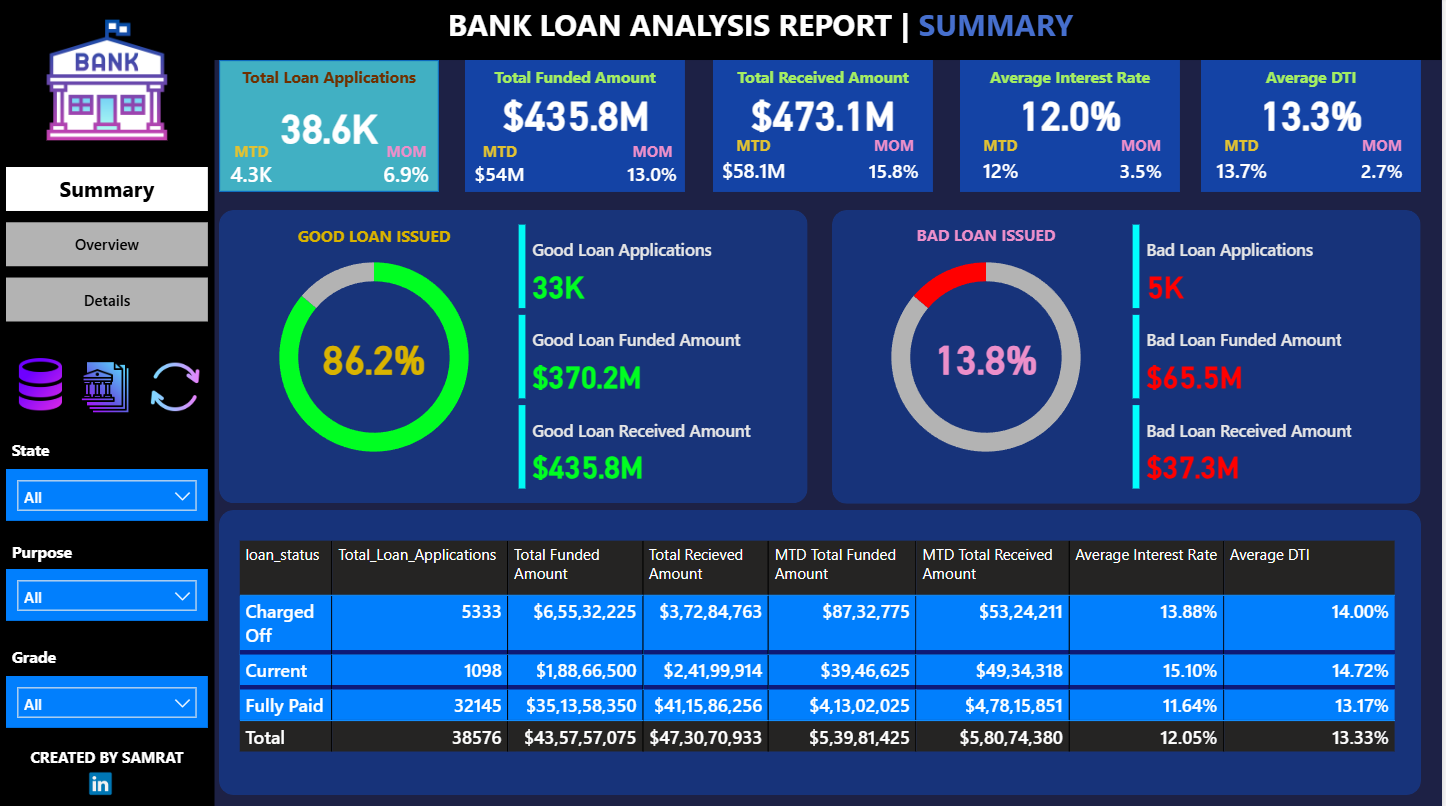

The dashboard page shown, as its layout file describes it:
{"tool":"powerbi","page":{"name":"Summary","canvas":[1280,720],"ordinal":0},"visuals":[{"type":"shape","box":[0,0,1280,55],"z":0},{"type":"shape","box":[196,55,195.1,117],"z":0,"group":"g3"},{"type":"shape","box":[414.4,55,195.1,117],"z":0,"group":"g2"},{"type":"shape","box":[633.6,55,195.1,117],"z":0,"group":"g4"},{"type":"shape","box":[852.6,55,195.1,117],"z":0,"group":"g5"},{"type":"shape","box":[1066.3,55,195.1,117],"z":0,"group":"g6"},{"type":"shape","box":[196,188,522,260],"z":1000},{"type":"shape","box":[0,55,192,665],"z":2000},{"type":"textbox","box":[272.2,0,807.8,55],"z":3000},{"type":"group","id":"g1","title":"Group 1","box":[196,55,195.1,117],"z":4000},{"type":"card","fields":{"Values":["Date Table.Total Funded Amount"]},"box":[414.7,79,195.1,45.2],"z":4000,"group":"g2"},{"type":"card","fields":{"Values":["Date Table.Total Recieved Amount"]},"box":[633.9,79,195.1,45.2],"z":4000,"group":"g4"},{"type":"card","fields":{"Values":["Date Table.Average Interest Rate"]},"box":[852.9,79,195.1,45.2],"z":4000,"group":"g5"},{"type":"card","fields":{"Values":["Date Table.Average DTI"]},"box":[1066.6,79,195.1,45.2],"z":4000,"group":"g6"},{"type":"card","fields":{"Values":["bank_loan_data.Total_Loan_Applications"]},"box":[196,90.5,195.1,45.2],"z":4000,"group":"g3"},{"type":"textbox","box":[196,55,195.1,35.5],"z":5000,"group":"g3"},{"type":"group","id":"g2","title":"Group 2","box":[414.1,55,195.7,117.1],"z":5000},{"type":"textbox","box":[414.4,55,195.1,35.5],"z":5000,"group":"g2"},{"type":"textbox","box":[633.6,55,195.1,35.5],"z":5000,"group":"g4"},{"type":"textbox","box":[852.6,55,195.1,35.5],"z":5000,"group":"g5"},{"type":"textbox","box":[1066.3,55,195.1,35.5],"z":5000,"group":"g6"},{"type":"card","title":"MTD","fields":{"Values":["bank_loan_data.MTD Total Received Amount"]},"box":[633.1,121.3,73.6,50.5],"z":6000,"group":"g4"},{"type":"card","title":"MTD","fields":{"Values":["bank_loan_data.MTD Average Interest Rate"]},"box":[852.1,121.3,73.6,50.5],"z":6000,"group":"g5"},{"type":"card","title":"MTD","fields":{"Values":["bank_loan_data.MTD Average DTI"]},"box":[1065.8,121.3,73.6,50.5],"z":6000,"group":"g6"},{"type":"card","title":"MTD","fields":{"Values":["bank_loan_data.MTD Total Loan Applications"]},"box":[196,126.8,57.6,45.2],"z":6000,"group":"g3"},{"type":"card","title":"MTD","fields":{"Values":["bank_loan_data.MTD Total Funded Amount"]},"box":[414.1,126.8,62.1,45.2],"z":6000,"group":"g2"},{"type":"textbox","box":[7.1,385.7,54.1,31.9],"z":6000},{"type":"card","title":"MOM","fields":{"Values":["Date Table.MOM Total Received Amount"]},"box":[759.9,121.3,69.2,50.5],"z":7000,"group":"g4"},{"type":"card","title":"MOM","fields":{"Values":["Date Table.MOM Average Interest Rate"]},"box":[978.9,121.3,69.2,50.5],"z":7000,"group":"g5"},{"type":"card","title":"MOM","fields":{"Values":["Date Table.MOM Average DTI"]},"box":[1192.6,121.3,69.2,50.5],"z":7000,"group":"g6"},{"type":"card","title":"MOM","fields":{"Values":["Date Table.MOM Loan Application"]},"box":[333.4,126.8,57.6,45.2],"z":7000,"group":"g3"},{"type":"card","title":"MOM","fields":{"Values":["Date Table.MOM Funded Amount"]},"box":[551.8,126.8,57.6,45.2],"z":7000,"group":"g2"},{"type":"card","fields":{"Values":["Date Table.Good Loan %"]},"box":[280.2,296.2,105.5,44.3],"z":7000},{"type":"group","id":"g3","title":"Group 2","box":[196,55,195.1,117],"z":7002,"group":"g1"},{"type":"group","id":"g4","title":"Group 2","box":[633.1,55,196,117],"z":8000},{"type":"textbox","box":[235.9,196,195.1,35.5],"z":9000},{"type":"group","id":"g5","title":"Group 2","box":[852.1,55,196,117],"z":10000},{"type":"group","id":"g6","title":"Group 2","box":[1065.8,55,196,117],"z":11000},{"type":"shape","box":[739.5,188,522.3,260.7],"z":12000},{"type":"donutChart","fields":{"Category":["bank_loan_data.Good vs Bad Loan"],"Y":["bank_loan_data.Total_Loan_Applications"]},"box":[208.4,208.4,250,219.9],"z":13000},{"type":"cardVisual","fields":{"Data":["Date Table.Good Loan Applications","Date Table.Good Loan Funded Amount","Date Table.Good Loan Received Amount"]},"box":[456.7,196,266.9,244.7],"z":14000},{"type":"donutChart","fields":{"Category":["bank_loan_data.Good vs Bad Loan"],"Y":["bank_loan_data.Total_Loan_Applications"]},"box":[751,208.4,250,219.9],"z":15000},{"type":"cardVisual","fields":{"Data":["Date Table.Bad Loan Applications","Date Table.Bad Loan Funded Amount","Date Table.Bad Loan Received Amount"]},"box":[1001.1,196,266.9,244.7],"z":16000},{"type":"card","fields":{"Values":["Date Table.Bad Loan %"]},"box":[822.9,296.2,105.5,44.3],"z":17000},{"type":"textbox","box":[778.5,195.1,195.1,35.5],"z":18000},{"type":"shape","box":[196,454,1065.8,252.7],"z":19000},{"type":"tableEx","fields":{"Values":["bank_loan_data.loan_status","bank_loan_data.Total_Loan_Applications","Date Table.Total Funded Amount","Date Table.Total Recieved Amount","bank_loan_data.MTD Total Funded Amount","bank_loan_data.MTD Total Received Amount","Date Table.Average Interest Rate","Date Table.Average DTI"]},"box":[208.4,476.2,1037.4,220.8],"z":20000},{"type":"slicer","fields":{"Values":["bank_loan_data.address_state"]},"box":[7.1,417.6,179.1,46.1],"z":21000},{"type":"slicer","fields":{"Values":["bank_loan_data.purpose"]},"box":[7.1,506.3,179.1,46.1],"z":22000},{"type":"slicer","fields":{"Values":["bank_loan_data.grade","bank_loan_data.sub_grade"]},"box":[7.1,601.2,179.1,46.1],"z":23000},{"type":"textbox","box":[7.1,476.2,88.7,30.1],"z":24000},{"type":"textbox","box":[7.1,569.3,89.6,31.9],"z":25000},{"type":"image","box":[7.1,14.2,179.1,117],"z":26000},{"type":"pageNavigator","box":[7.1,149.9,179.1,138.3],"z":27000},{"type":"image","box":[128.6,318.3,57.6,53.2],"z":28000},{"type":"image","box":[7.1,313,61.2,58.5],"z":29000},{"type":"image","box":[64.7,313.9,59.4,61.2],"z":30000},{"type":"textbox","box":[7.1,659.7,179.1,28.4],"z":31000},{"type":"image","box":[75.4,680.1,31,32.8],"z":32000}]}

Visuals, with their boxes in screenshot pixels (x1, y1, x2, y2), scaled from the page's 1280x720 canvas onto the 1446x806 screenshot:
shape: [0, 0, 1445, 62]
shape: [221, 62, 442, 193]
shape: [468, 62, 689, 193]
shape: [716, 62, 936, 193]
shape: [963, 62, 1184, 193]
shape: [1205, 62, 1425, 193]
shape: [221, 210, 811, 502]
shape: [0, 62, 217, 805]
textbox: [308, 0, 1220, 62]
"Group 1" group: [221, 62, 442, 193]
card - Date Table.Total Funded Amount: [468, 88, 689, 139]
card - Date Table.Total Recieved Amount: [716, 88, 937, 139]
card - Date Table.Average Interest Rate: [964, 88, 1184, 139]
card - Date Table.Average DTI: [1205, 88, 1425, 139]
card - bank_loan_data.Total_Loan_Applications: [221, 101, 442, 152]
textbox: [221, 62, 442, 101]
"Group 2" group: [468, 62, 689, 193]
textbox: [468, 62, 689, 101]
textbox: [716, 62, 936, 101]
textbox: [963, 62, 1184, 101]
textbox: [1205, 62, 1425, 101]
"MTD" card: [715, 136, 798, 192]
"MTD" card: [963, 136, 1046, 192]
"MTD" card: [1204, 136, 1287, 192]
"MTD" card: [221, 142, 286, 193]
"MTD" card: [468, 142, 538, 193]
textbox: [8, 432, 69, 467]
"MOM" card: [858, 136, 937, 192]
"MOM" card: [1106, 136, 1184, 192]
"MOM" card: [1347, 136, 1425, 192]
"MOM" card: [377, 142, 442, 193]
"MOM" card: [623, 142, 688, 193]
card - Date Table.Good Loan %: [317, 332, 436, 381]
"Group 2" group: [221, 62, 442, 193]
"Group 2" group: [715, 62, 937, 193]
textbox: [266, 219, 487, 259]
"Group 2" group: [963, 62, 1184, 193]
"Group 2" group: [1204, 62, 1425, 193]
shape: [835, 210, 1425, 502]
donutChart - bank_loan_data.Good vs Bad Loan x bank_loan_data.Total_Loan_Applications: [235, 233, 518, 479]
cardVisual - Date Table.Good Loan Applications x Date Table.Good Loan Funded Amount: [516, 219, 817, 493]
donutChart - bank_loan_data.Good vs Bad Loan x bank_loan_data.Total_Loan_Applications: [848, 233, 1131, 479]
cardVisual - Date Table.Bad Loan Applications x Date Table.Bad Loan Funded Amount: [1131, 219, 1432, 493]
card - Date Table.Bad Loan %: [930, 332, 1049, 381]
textbox: [879, 218, 1100, 258]
shape: [221, 508, 1425, 791]
tableEx - bank_loan_data.loan_status x bank_loan_data.Total_Loan_Applications: [235, 533, 1407, 780]
slicer - bank_loan_data.address_state: [8, 467, 210, 519]
slicer - bank_loan_data.purpose: [8, 567, 210, 618]
slicer - bank_loan_data.grade x bank_loan_data.sub_grade: [8, 673, 210, 725]
textbox: [8, 533, 108, 567]
textbox: [8, 637, 109, 673]
image: [8, 16, 210, 147]
pageNavigator: [8, 168, 210, 323]
image: [145, 356, 210, 416]
image: [8, 350, 77, 416]
image: [73, 351, 140, 420]
textbox: [8, 738, 210, 770]
image: [85, 761, 120, 798]
